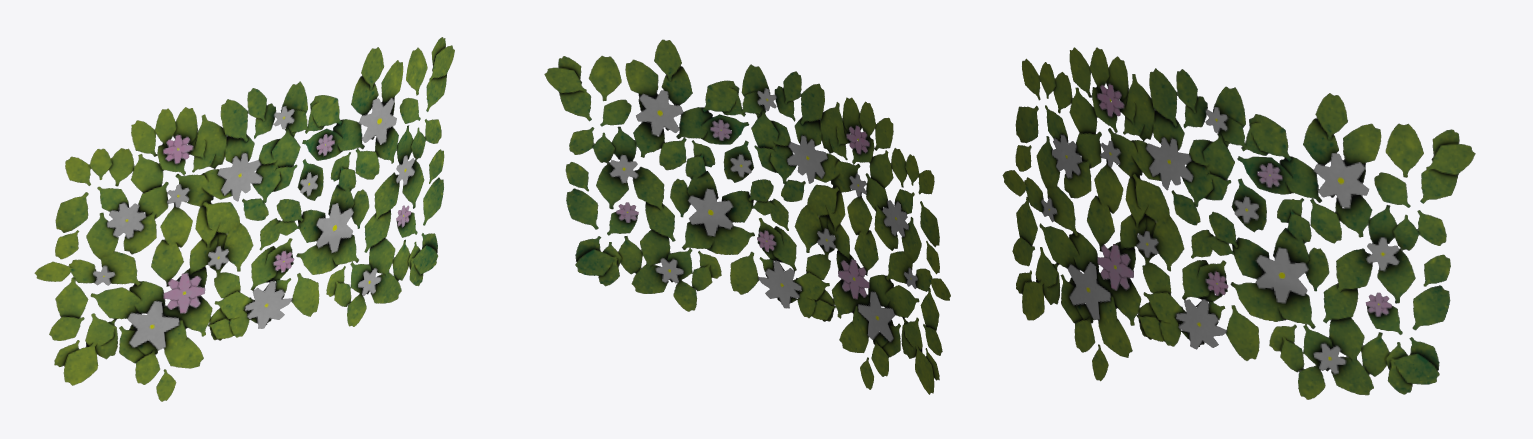
The model's file is Flowers_Bush_09.fbx.
3 views of the same model, side by side, from view 1: azimuth 30°, elevation 25°; view 2: azimuth 150°, elevation 25°; view 3: azimuth 330°, elevation 25° (orthographic). The views are drawn at different scales.
Parts seen in each view (by area): view 1: Flowers_Bush_09; view 2: Flowers_Bush_09; view 3: Flowers_Bush_09.
Part boxes in pixels (x1,y1,x2,y2): Flowers_Bush_09: (34, 37, 454, 401); Flowers_Bush_09: (544, 39, 950, 394); Flowers_Bush_09: (1002, 47, 1475, 399).
Size of the model in its own units: 3.32 by 2.37 by 0.4435.
